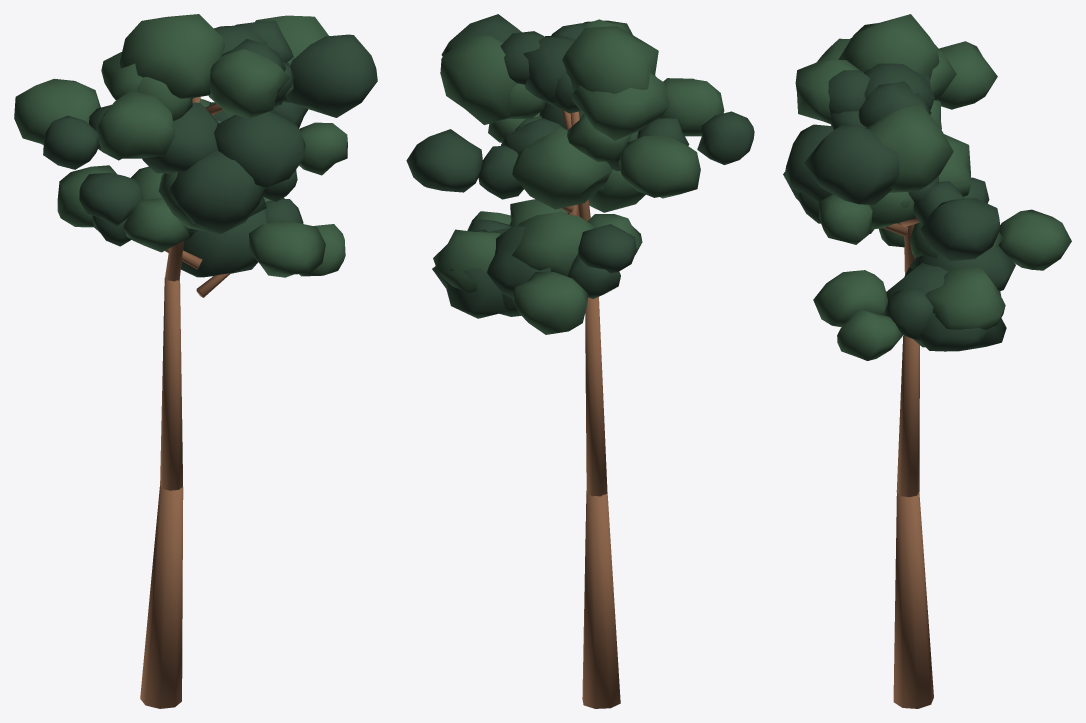
Rendered from node_tree_pine_1.glb.
3 renders of one model, left to right at view 1: azimuth 30°, elevation 25°; view 2: azimuth 150°, elevation 25°; view 3: azimuth 270°, elevation 25°, orthographic. The views are drawn at different scales.
Parts seen in each view (by area): view 1: cyl, blob.040, blob.031, blob.015, blob.013, cyl.001, blob.026, blob.034, blob.024, blob.002, blob.001, blob.027 (+17 smaller); view 2: cyl, blob.022, blob.040, blob.032, blob.024, blob.036, blob.010, cyl.001, blob.021, blob.008, blob, blob.026 (+17 smaller); view 3: cyl, blob.031, blob.032, blob.040, blob.021, blob, blob.010, cyl.001, blob.002, blob.024, blob.004, blob.034 (+14 smaller).
Part boxes in pixels (x1,y1,x2,y2): cyl: (140, 485, 183, 708); blob.040: (119, 14, 225, 98); blob.031: (286, 34, 377, 117); blob.015: (167, 150, 264, 233); blob.013: (214, 111, 305, 188); cyl.001: (160, 278, 182, 490); blob.026: (96, 90, 174, 158); blob.034: (208, 49, 289, 118); blob.024: (14, 78, 100, 144); blob.002: (249, 220, 325, 277); blob.001: (181, 209, 267, 277); blob.027: (142, 102, 218, 173); cyl: (582, 491, 620, 708); blob.022: (512, 127, 612, 209); blob.040: (562, 26, 658, 93); blob.032: (440, 36, 516, 124); blob.024: (618, 135, 700, 198); blob.036: (572, 73, 669, 140); blob.010: (512, 272, 588, 334); cyl.001: (585, 297, 607, 496); blob.021: (406, 129, 482, 192); blob.008: (512, 212, 595, 276); blob: (433, 229, 500, 292); blob.026: (659, 78, 724, 136); cyl: (893, 492, 933, 708); blob.031: (804, 123, 899, 204); blob.032: (866, 104, 953, 192); blob.040: (838, 14, 939, 79); blob.021: (920, 198, 1000, 261); blob: (925, 267, 1005, 329); blob.010: (999, 209, 1071, 270); cyl.001: (896, 335, 919, 497); blob.002: (813, 270, 887, 327); blob.024: (938, 41, 997, 109); blob.004: (837, 309, 902, 360); blob.034: (795, 60, 859, 123).
Size of the model in its own units: 5.71 by 11.76 by 4.53.
